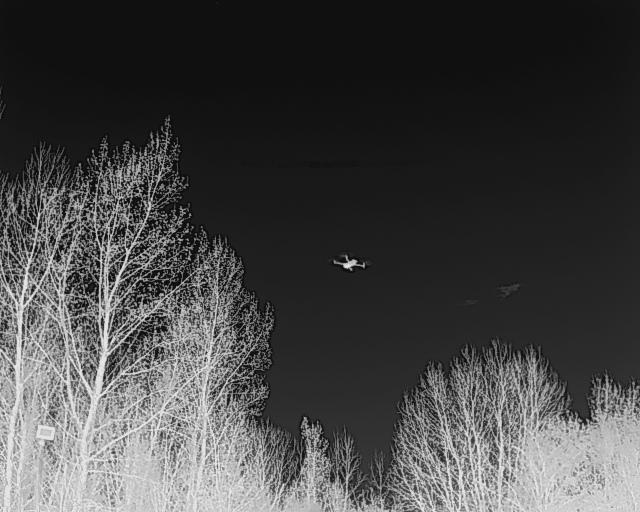drone: (325, 254, 372, 276)
